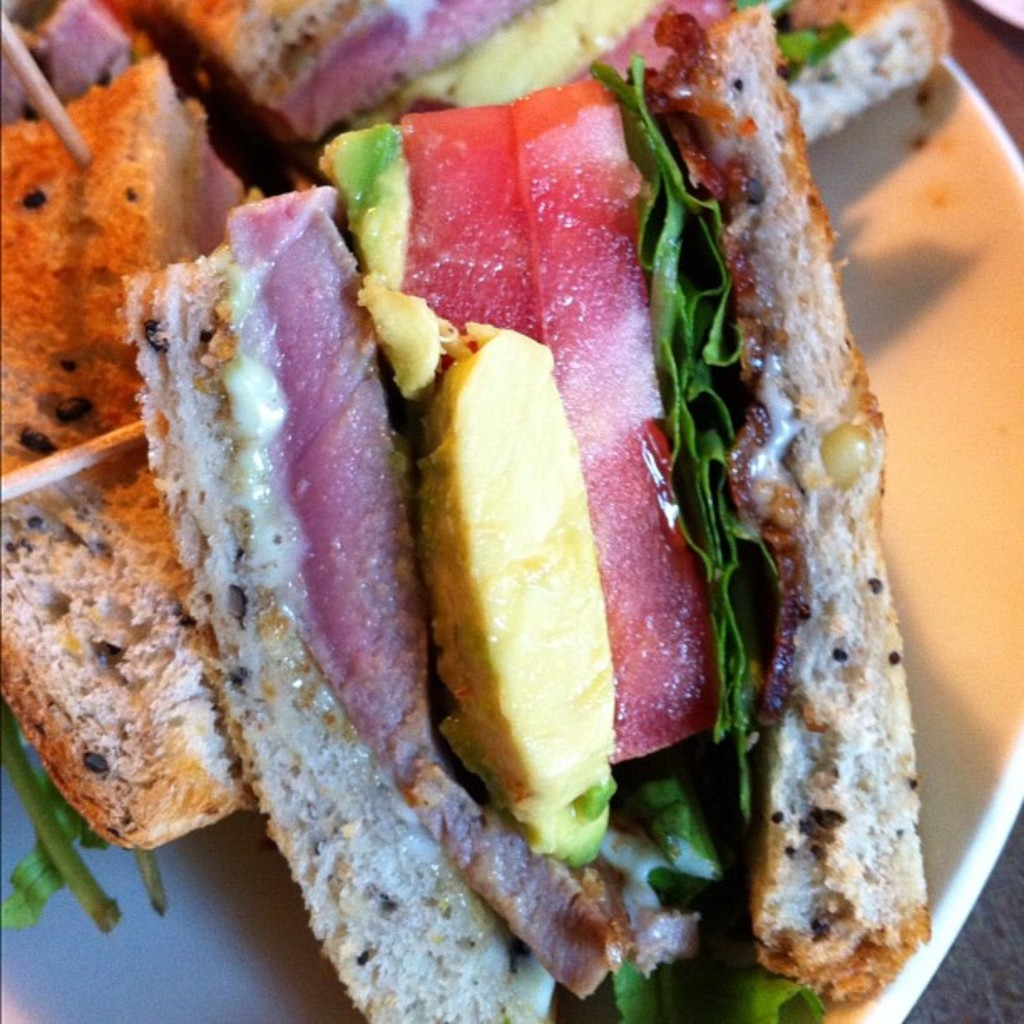sandwich: (110, 0, 930, 1022), (0, 54, 276, 847), (154, 0, 957, 144)
